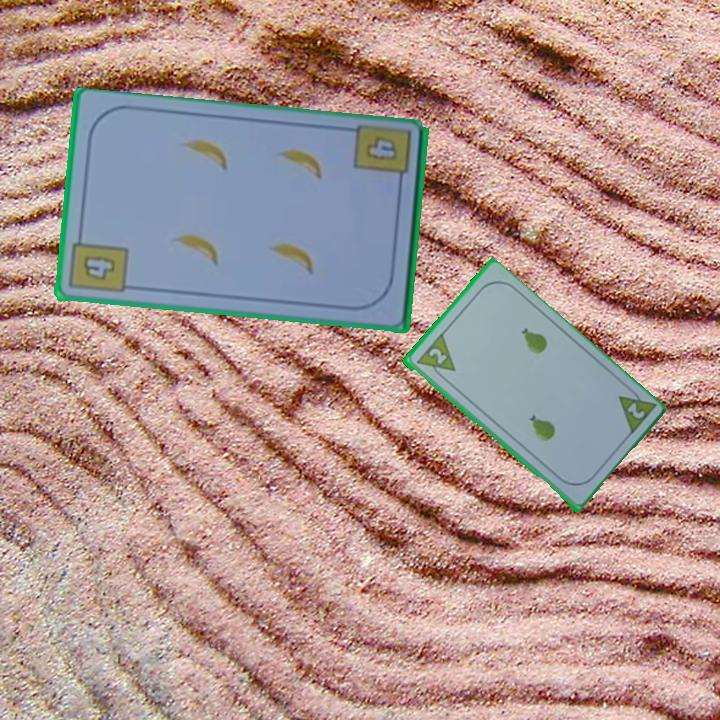2p: (412, 331, 458, 384), (623, 399, 647, 422)
4b: (66, 229, 131, 297), (361, 133, 400, 165)
